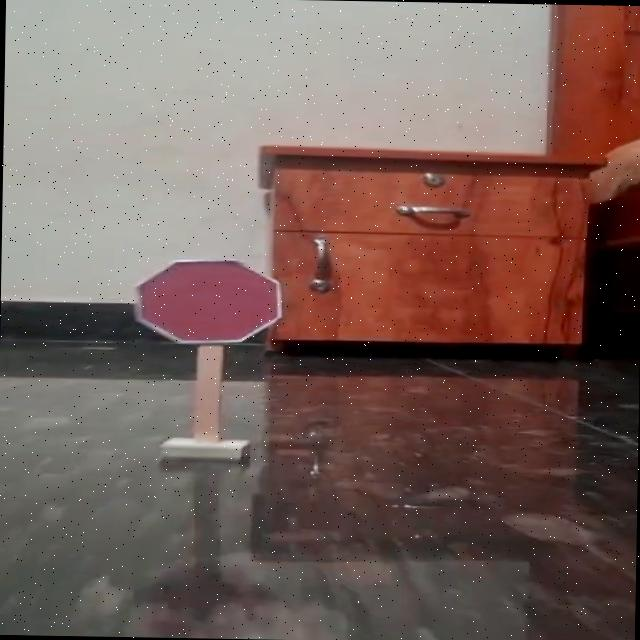Stop: (112, 243, 299, 352)
